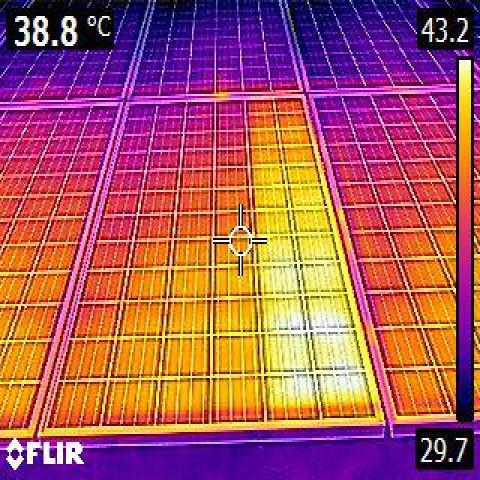fault: (253, 101, 368, 418)
